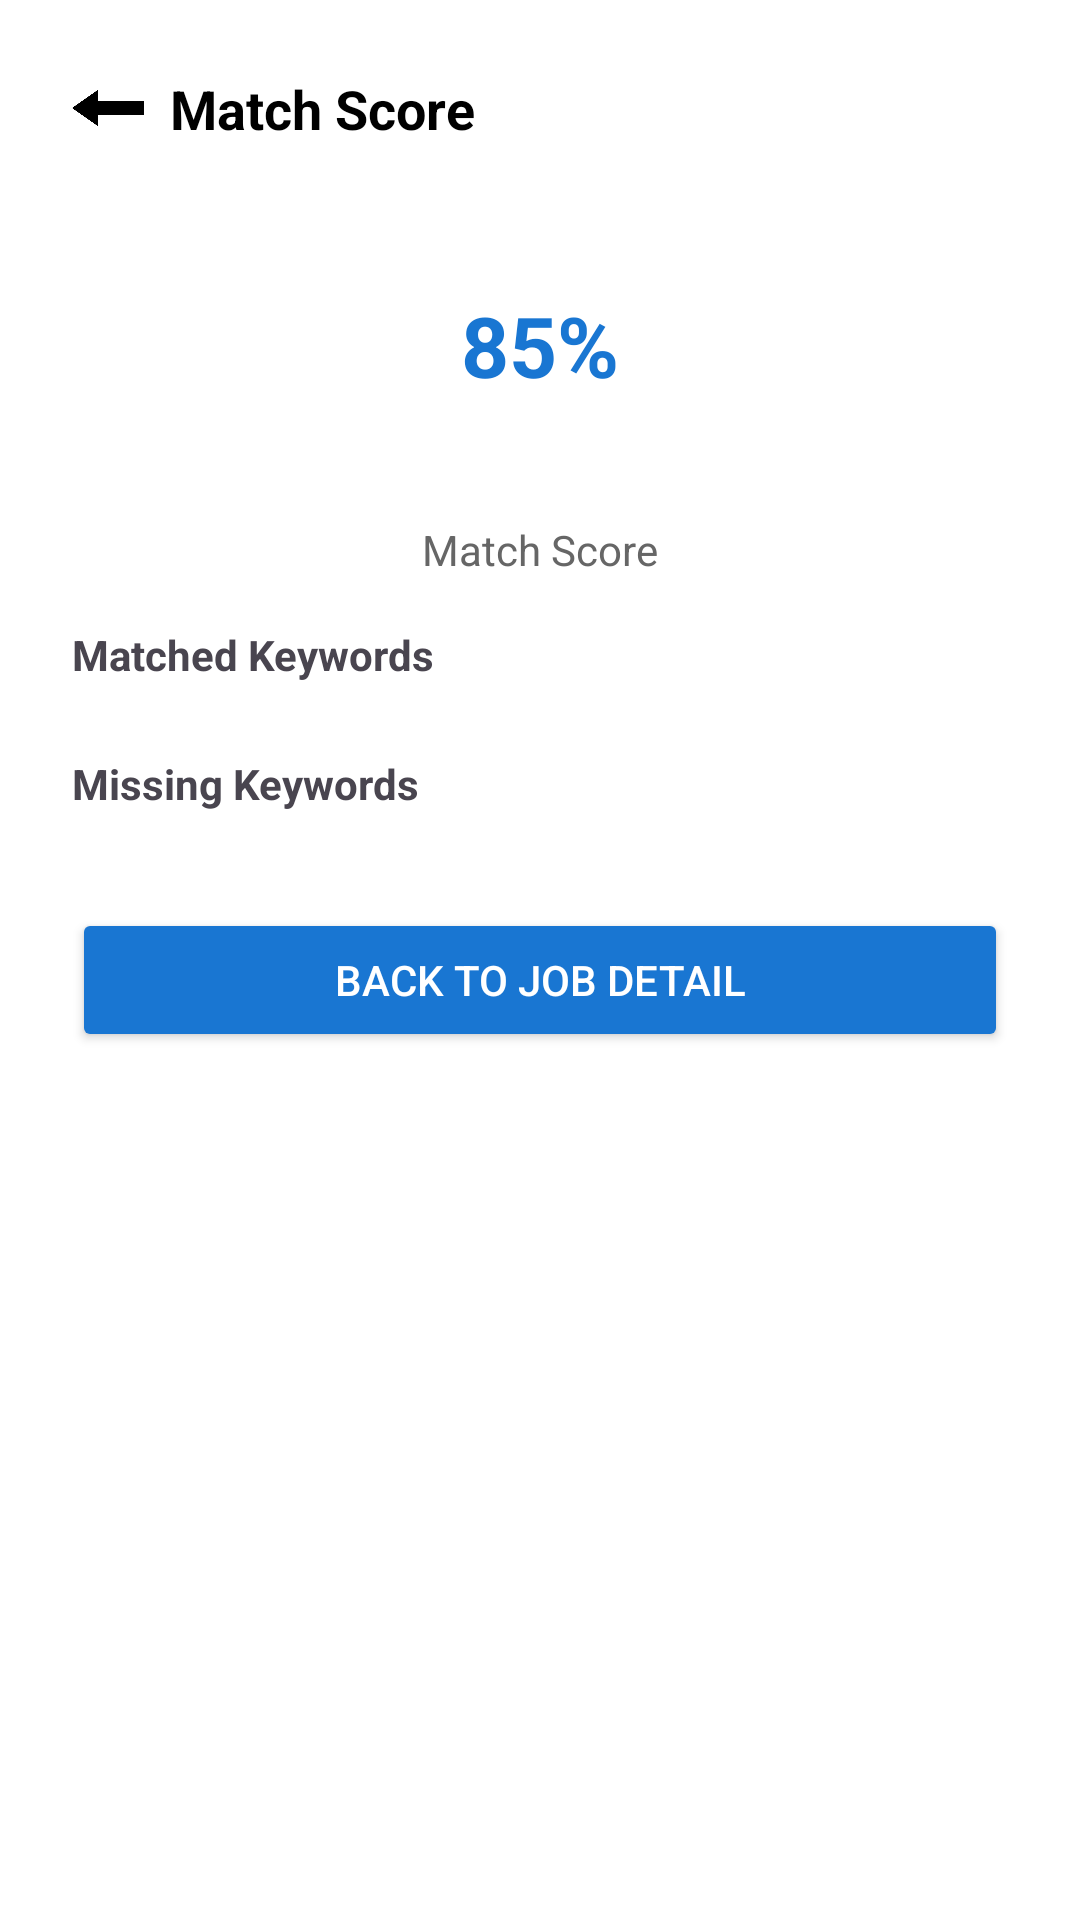

Icon bounding boxes for this 1080px x 1920px phone screenshot, format (x1, y1, x2, y2):
Back: (73, 90, 144, 126)
